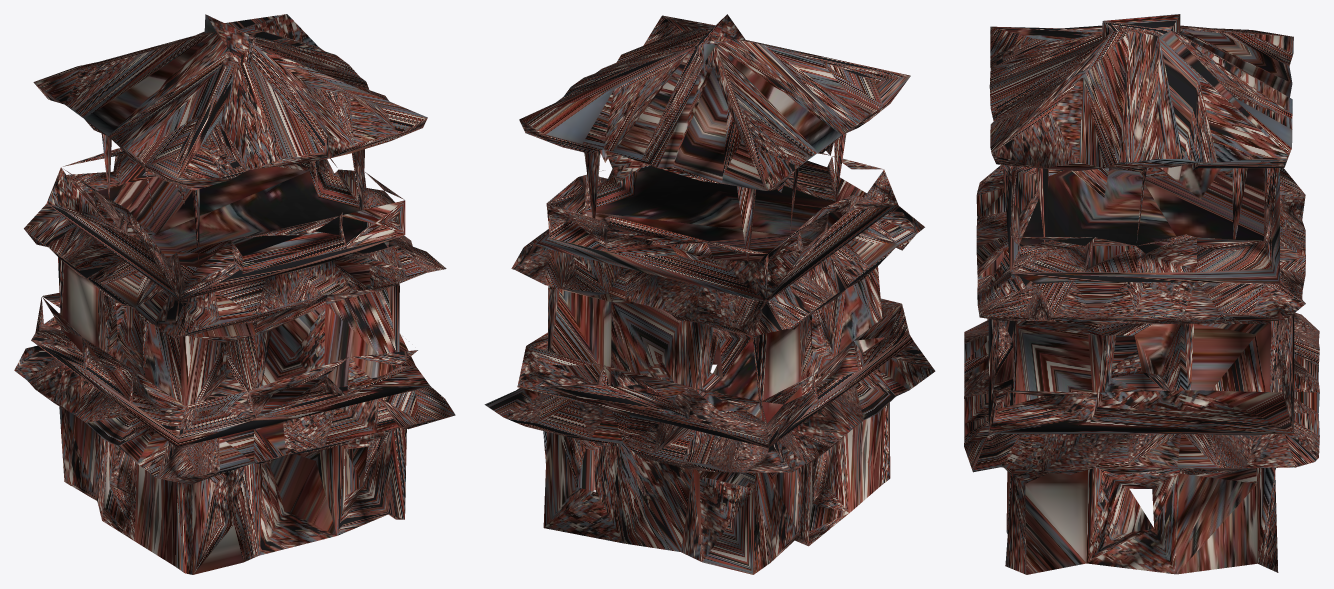
File: wanglou_lod2.glb
The picture shows the model from 3 angles, left to right: view 1: azimuth 30°, elevation 25°; view 2: azimuth 150°, elevation 25°; view 3: azimuth 270°, elevation 25°; orthographic projection. The views are drawn at different scales.
Visible parts, largest first — view 1: node_0; view 2: node_0; view 3: node_0.
Boxes of the visible parts, left/top/right/bottom form: node_0: left=14, top=14, right=455, bottom=574; node_0: left=484, top=14, right=935, bottom=574; node_0: left=964, top=14, right=1319, bottom=574.
Size of the model in its own units: 10.29 by 15.92 by 10.24.
1 material, 1 textured.
